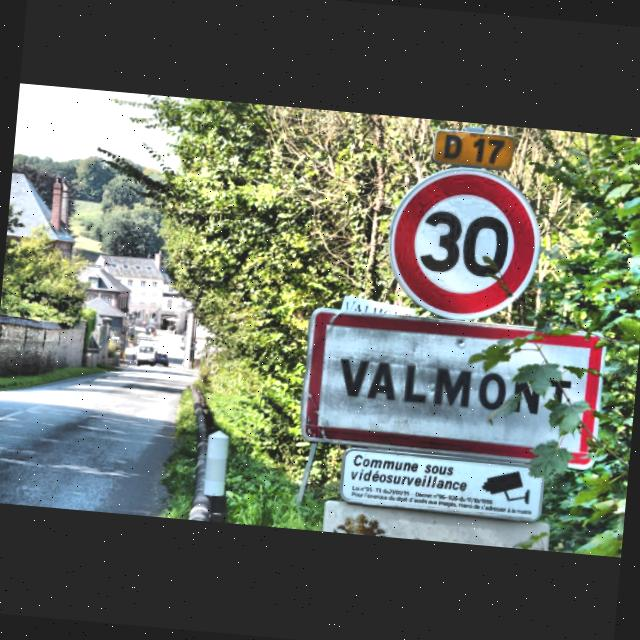speed_30: (381, 162, 545, 326)
